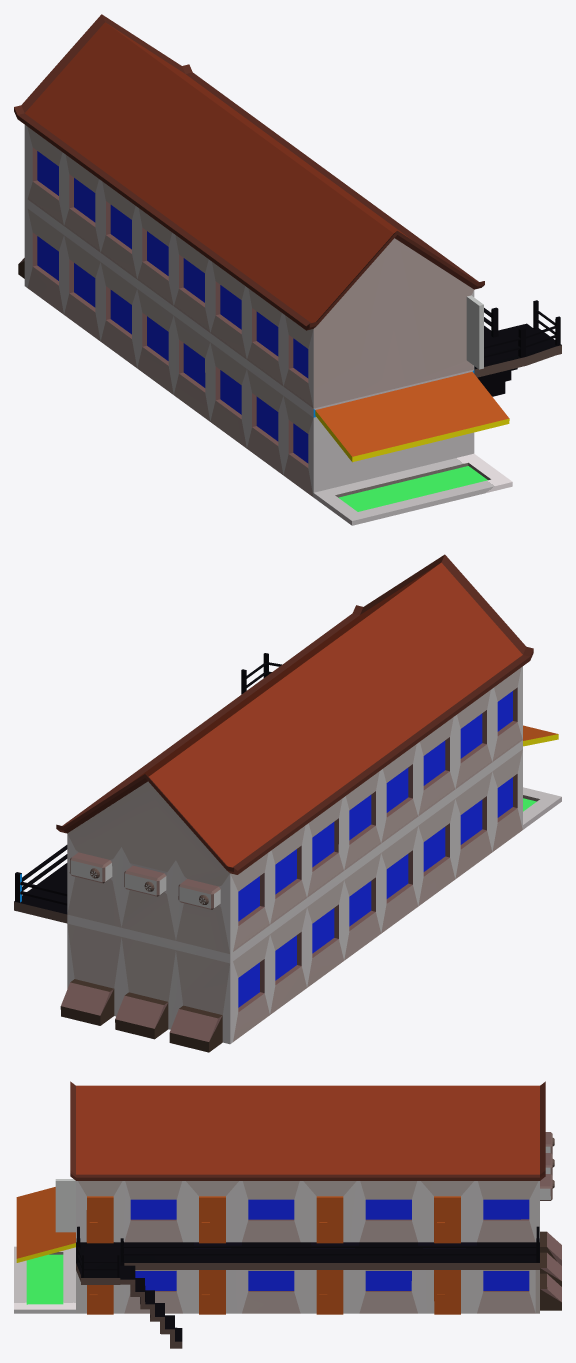
The model's file is 1 Motel.fbx.
3 renders of one model, top to bottom at view 1: azimuth 30°, elevation 25°; view 2: azimuth 150°, elevation 25°; view 3: azimuth 270°, elevation 25°, orthographic. The views are drawn at different scales.
Visible parts, largest first — view 1: Cube.009; view 2: Cube.009; view 3: Cube.009.
Part boxes in pixels (x1,y1,x2,y2): Cube.009: [14, 14, 561, 525]; Cube.009: [14, 554, 561, 1052]; Cube.009: [14, 1081, 561, 1348].
Size of the model in its own units: 254 by 235 by 580.
